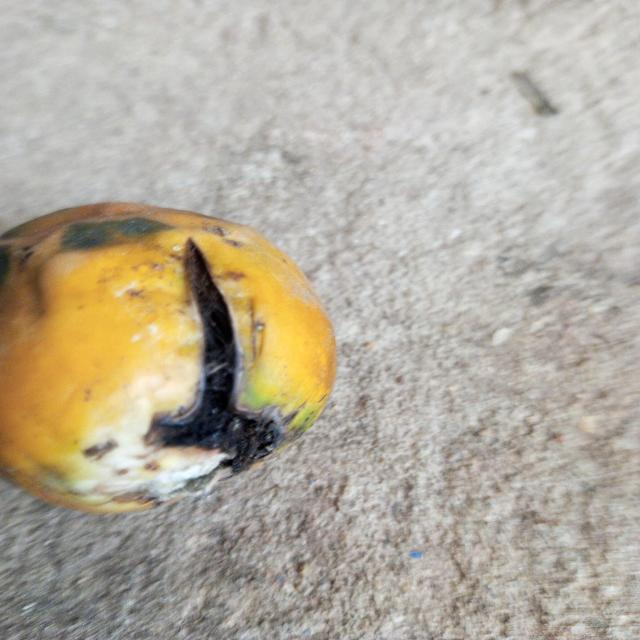damaged: (0, 202, 337, 518)
